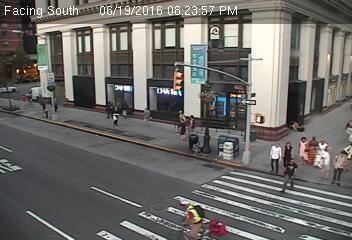neg: (110, 48, 146, 97), (3, 132, 33, 172), (64, 45, 89, 78), (178, 68, 201, 99), (220, 128, 242, 157), (19, 58, 35, 78), (239, 83, 254, 103)
pos: (282, 158, 308, 193), (326, 147, 351, 183), (257, 141, 280, 171), (289, 132, 311, 161), (138, 105, 156, 129), (338, 114, 351, 146), (174, 117, 190, 139), (108, 110, 122, 128), (37, 98, 50, 116)
